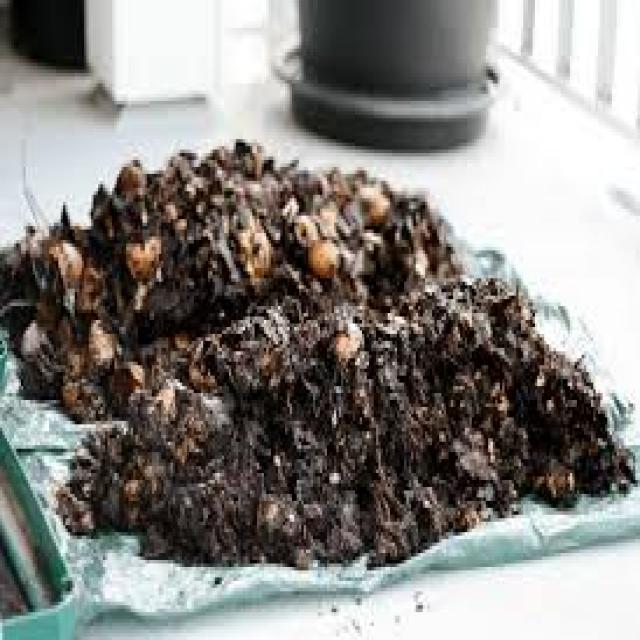Organik: (0, 104, 640, 581), (303, 230, 352, 297)
